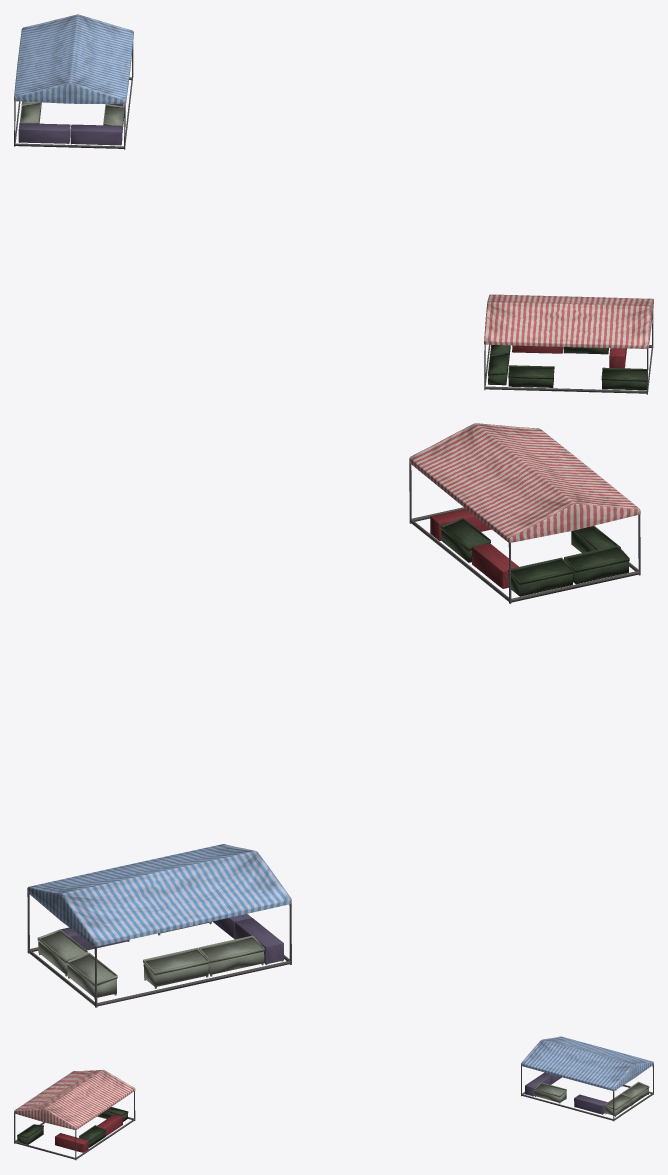
File: booths.fbx
3 renders of one model, top to bottom at view 1: azimuth 30°, elevation 25°; view 2: azimuth 150°, elevation 25°; view 3: azimuth 270°, elevation 25°, orthographic. The views are drawn at different scales.
Parts seen in each view (by area): view 1: booths; view 2: booths; view 3: booths.
Part boxes in pixels (box(x1,y1,x2,y2)): booths: box(14, 14, 653, 394); booths: box(27, 423, 640, 1007); booths: box(14, 1036, 653, 1160).
Bounding box in the file's own units: 1580 × 4760 × 367.
Materials: 2 (2 with a texture image).
